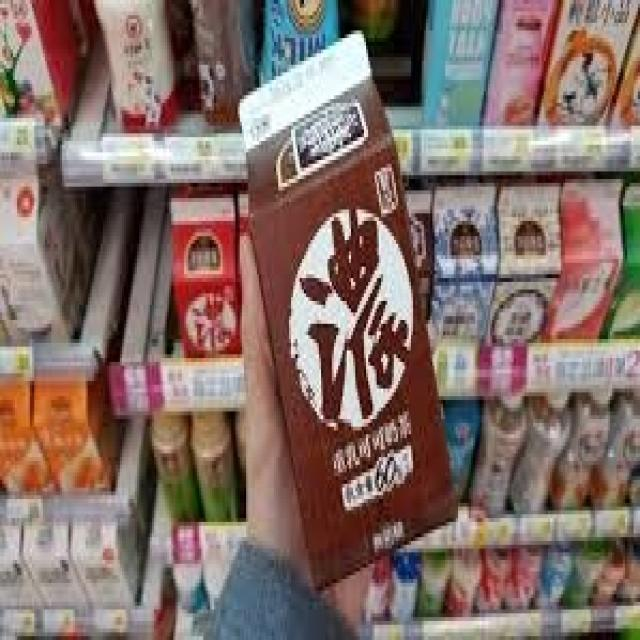Known_ChocoMilkTea: (230, 22, 463, 600)
